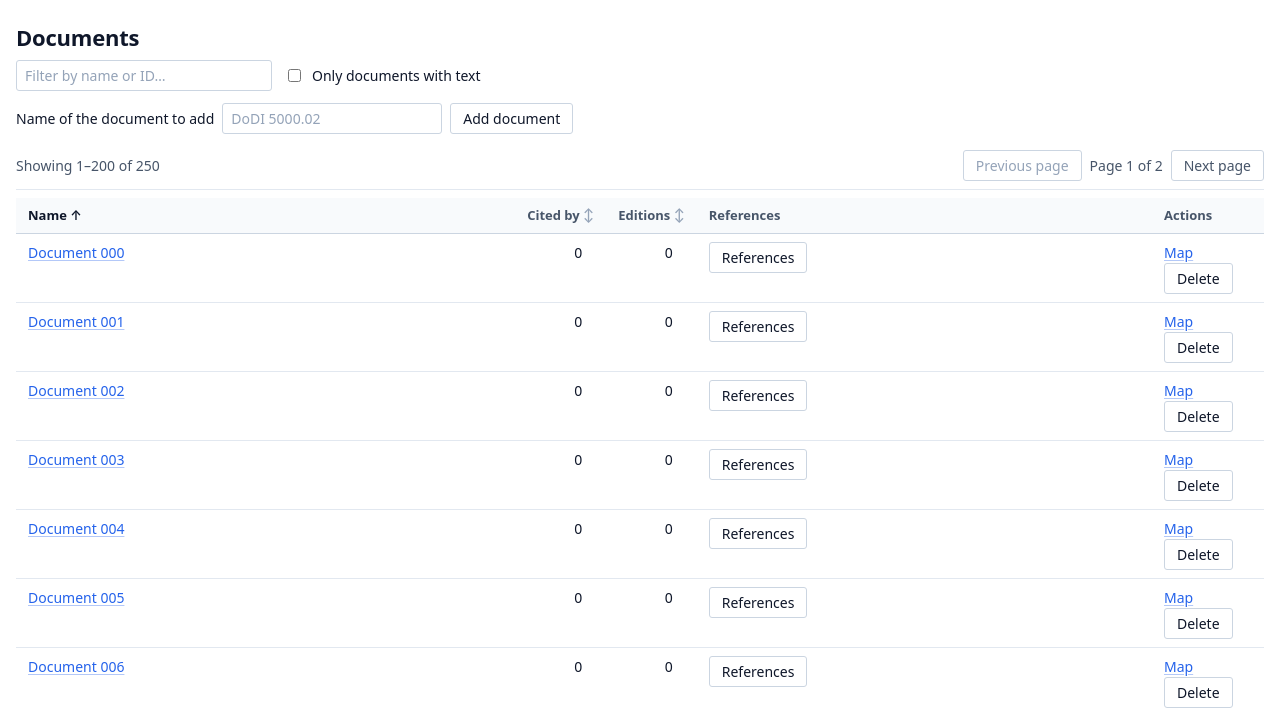
Test: DocumentTable paging › returns to the first page when the filter changes under it
Step 1. Click the button "Next page" → (1217, 165), box [1171,150,1264,180]
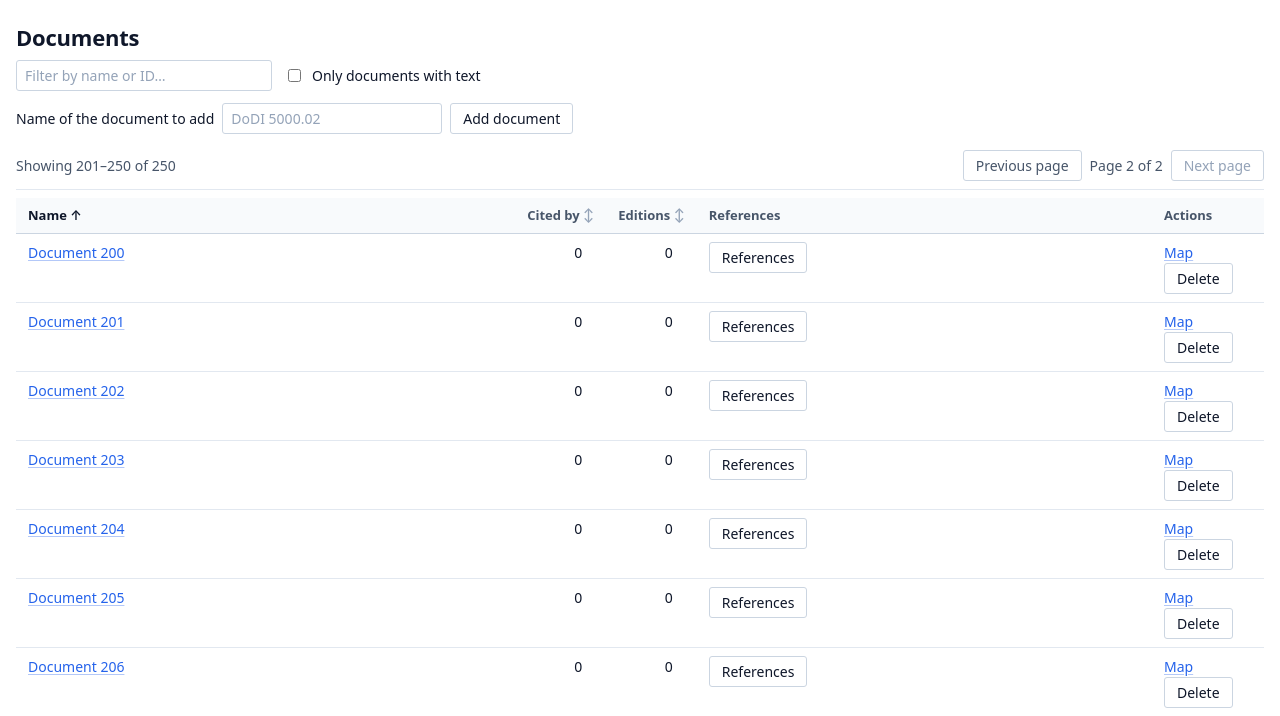
Step 2. Type "Document 01" into the search field → (144, 75), box [16,60,272,90]
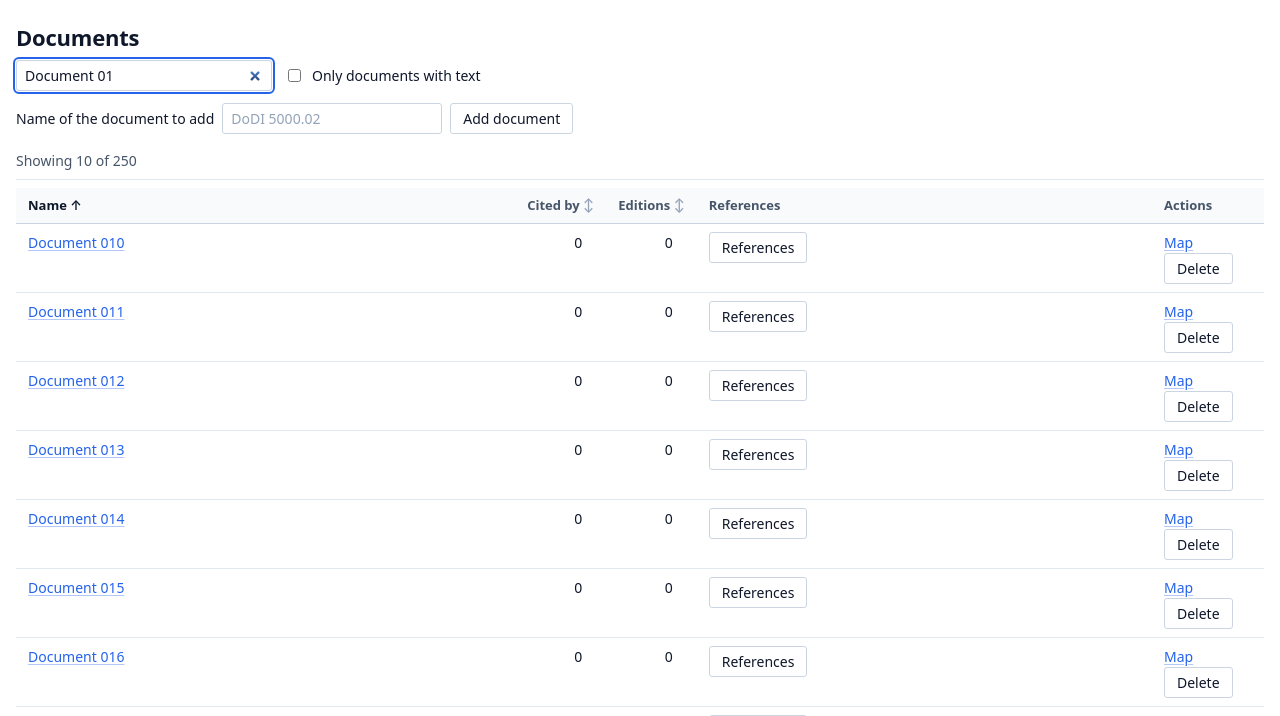
Expected: the link "Document 010" is shown, [28,233,124,252]
